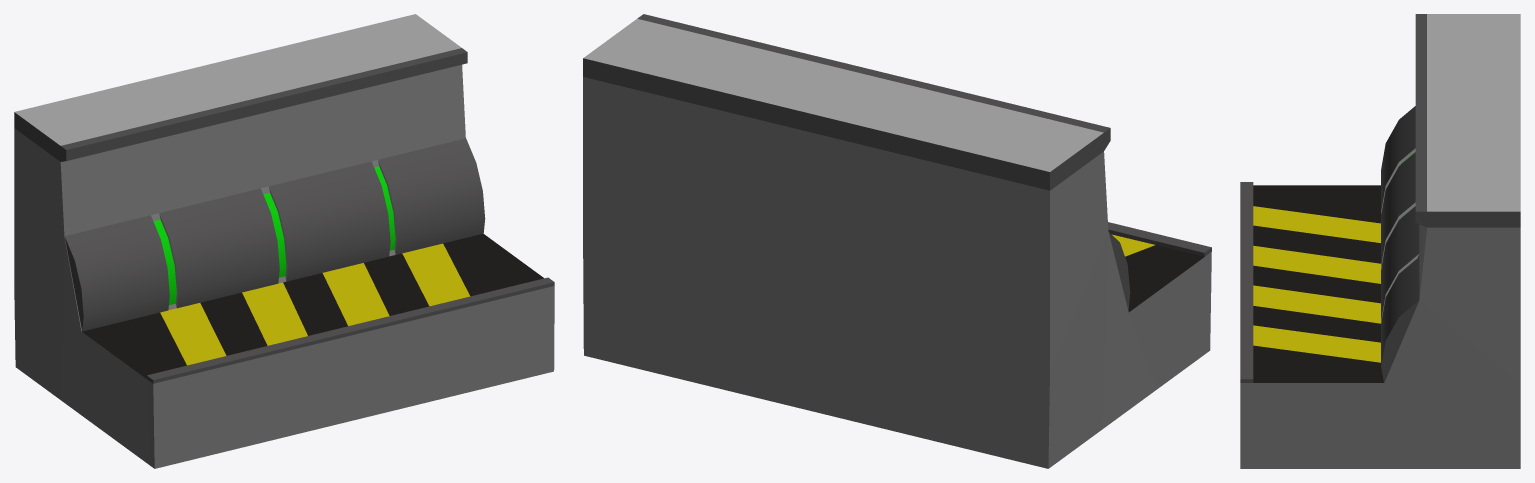
File: Robot_Floor_Border.fbx
3 views of the same model, side by side, from view 1: azimuth 30°, elevation 25°; view 2: azimuth 150°, elevation 25°; view 3: azimuth 270°, elevation 25° (orthographic). The views are drawn at different scales.
Parts seen in each view (by area): view 1: pCube70, pCylinder27; view 2: pCube70; view 3: pCube70, pCylinder27.
Part boxes in pixels (x1,y1,x2,y2): pCube70: (14,14,554,468); pCylinder27: (64,138,485,331); pCube70: (583,14,1211,468); pCube70: (1240,14,1520,468); pCylinder27: (1381,106,1419,383).
Size of the model in its own units: 5.01 by 3 by 3.04.
